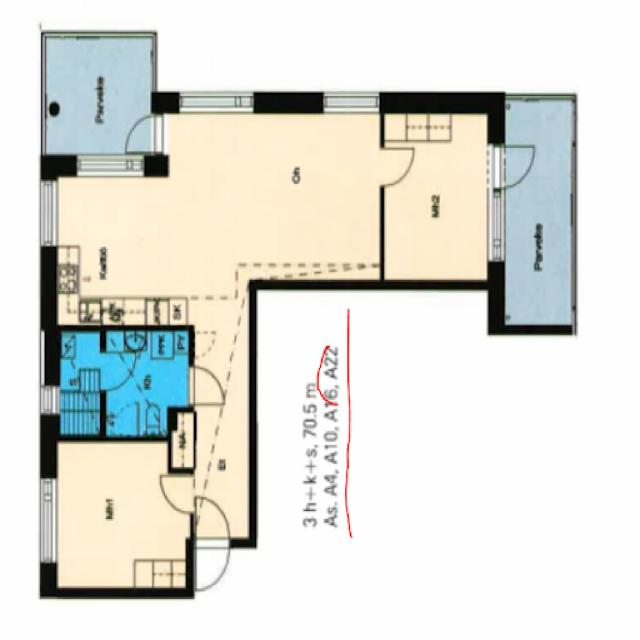door: (486, 146, 540, 189), (121, 112, 168, 152), (198, 532, 230, 586), (198, 492, 230, 546), (156, 476, 194, 513), (186, 366, 222, 402), (380, 149, 413, 185), (100, 356, 130, 388)
